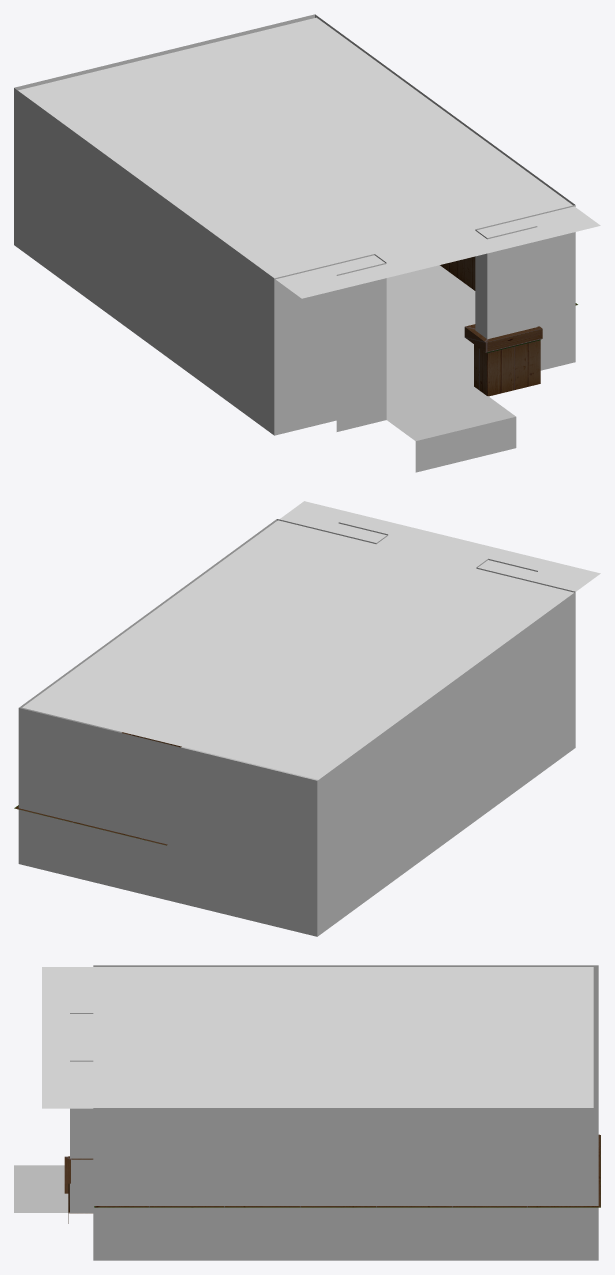
The model's file is maps_small.FBX.
3 renders of one model, top to bottom at view 1: azimuth 30°, elevation 25°; view 2: azimuth 150°, elevation 25°; view 3: azimuth 270°, elevation 25°, orthographic. The views are drawn at different scales.
Visible parts, largest first — view 1: Box001, Box002, Box003; view 2: Box001, Box002; view 3: Box001, Box002, Box003.
Part boxes in pixels (box(x1,y1,x2,y2)): Box001: box(14, 14, 575, 472); Box002: box(18, 17, 600, 298); Box003: box(440, 256, 577, 396); Box001: box(18, 519, 575, 936); Box002: box(22, 501, 600, 779); Box001: box(14, 965, 598, 1260); Box002: box(42, 967, 593, 1108); Box003: box(64, 1134, 600, 1223).
Size of the model in its own units: 258 by 153 by 445.
